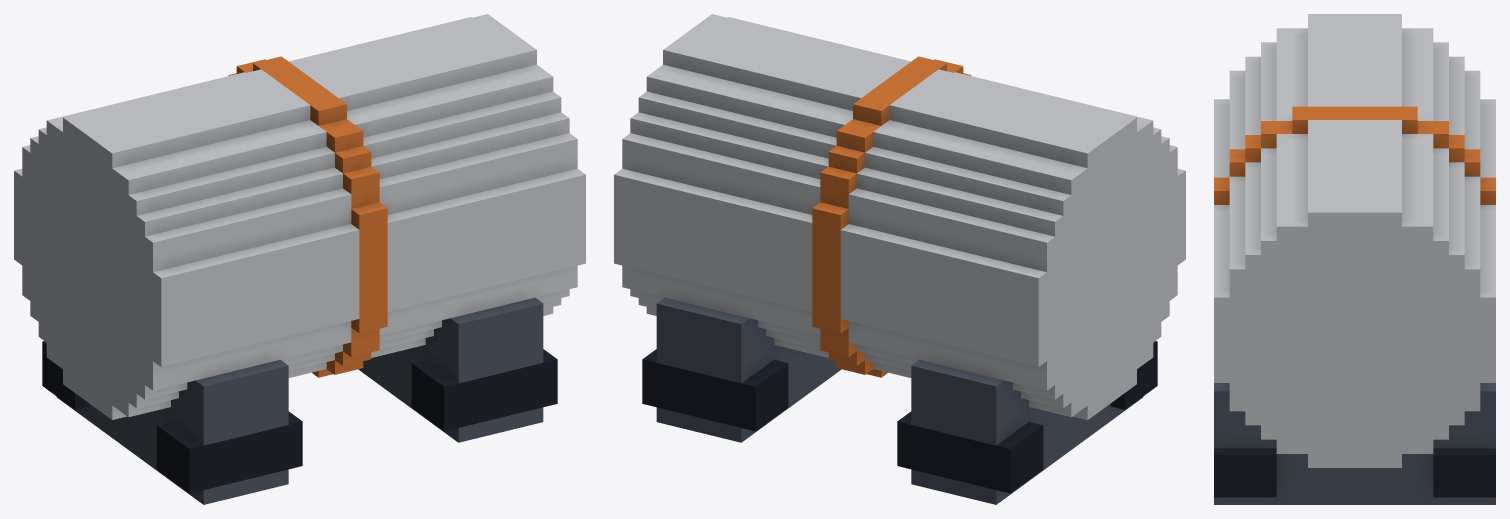
Rendered from tank_f.glb.
3 views of the same model, side by side, from view 1: azimuth 30°, elevation 25°; view 2: azimuth 150°, elevation 25°; view 3: azimuth 270°, elevation 25° (orthographic). The views are drawn at different scales.
Visible parts, largest first — view 1: Base; view 2: Base; view 3: Base.
Boxes of the visible parts, x1,y1,x2,y2 form: Base: (14,14,585,504); Base: (614,14,1185,504); Base: (1214,14,1495,504).
Size of the model in its own units: 3 by 2.2 by 1.8.
